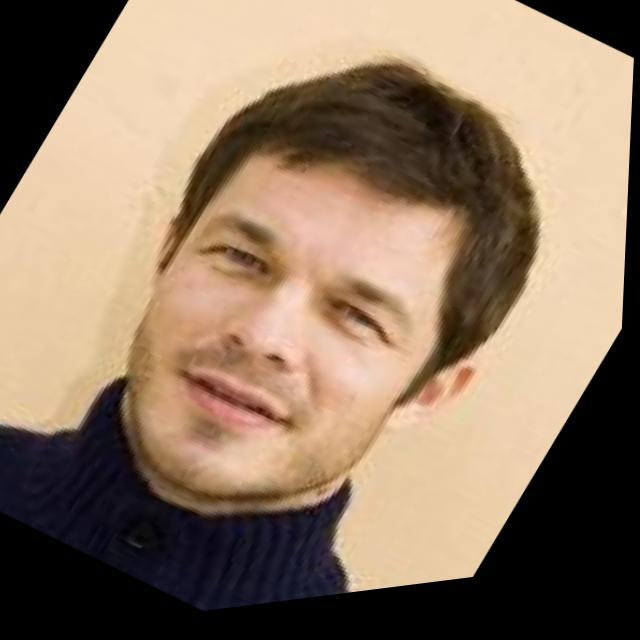Nonhelmet: (114, 57, 543, 507)
